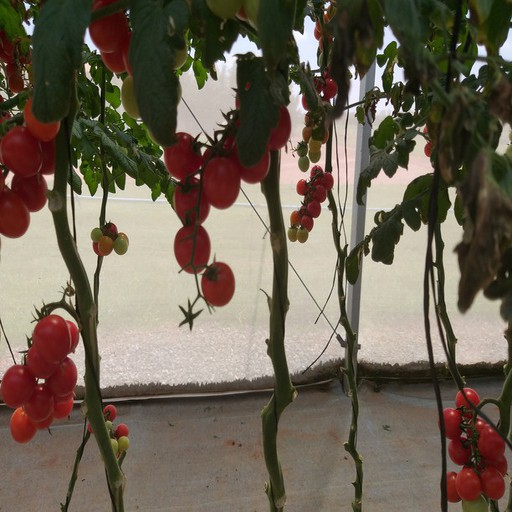mixed tomato bunch: (296, 70, 340, 167), (312, 2, 345, 69)
red tomato bunch: (166, 64, 289, 307), (85, 1, 180, 107), (4, 314, 78, 443), (1, 94, 56, 241), (436, 389, 507, 499), (289, 165, 334, 242), (91, 220, 131, 253)
